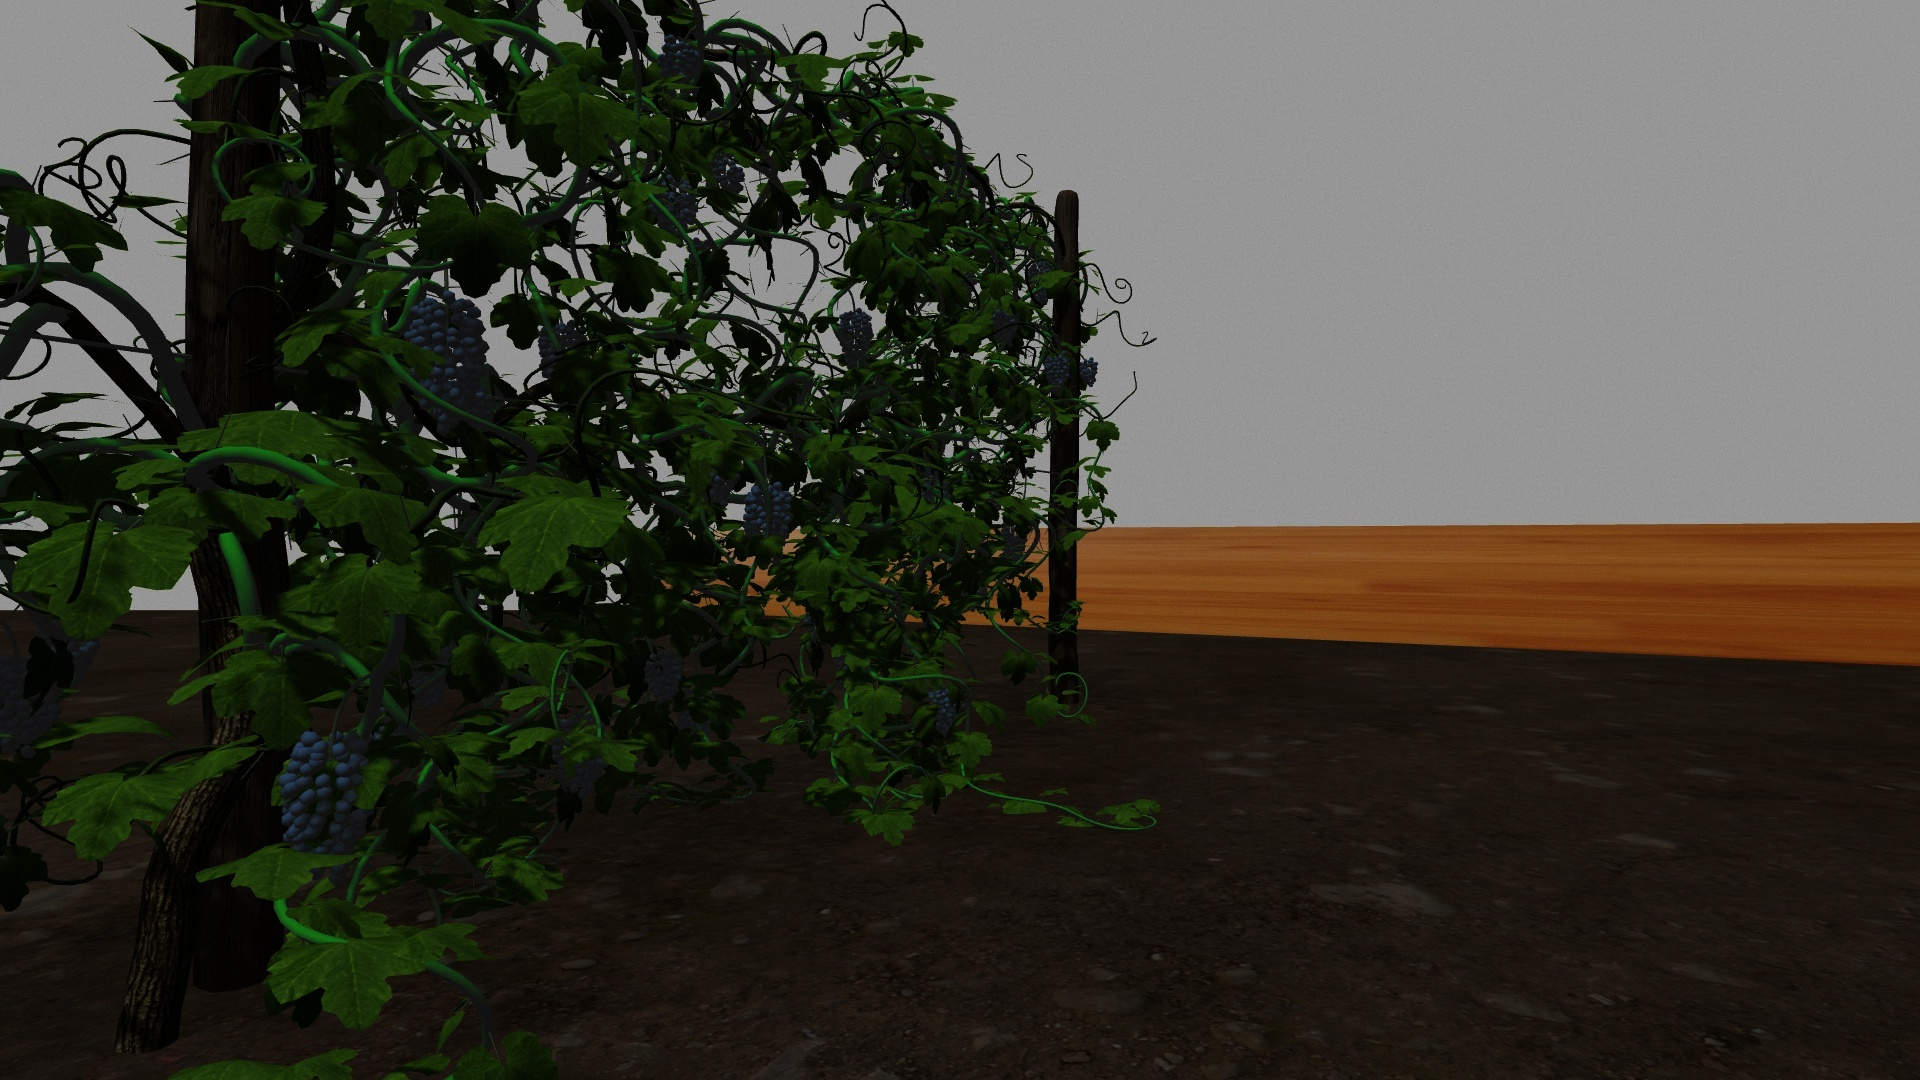grape: (273, 732, 375, 857), (404, 301, 489, 433), (7, 665, 61, 760), (738, 484, 794, 549), (651, 177, 698, 236), (837, 310, 873, 371), (644, 649, 684, 702), (655, 33, 702, 79), (922, 690, 957, 737), (990, 307, 1021, 348), (712, 157, 744, 193), (1043, 352, 1069, 393), (1000, 526, 1026, 560), (1076, 357, 1101, 385)
